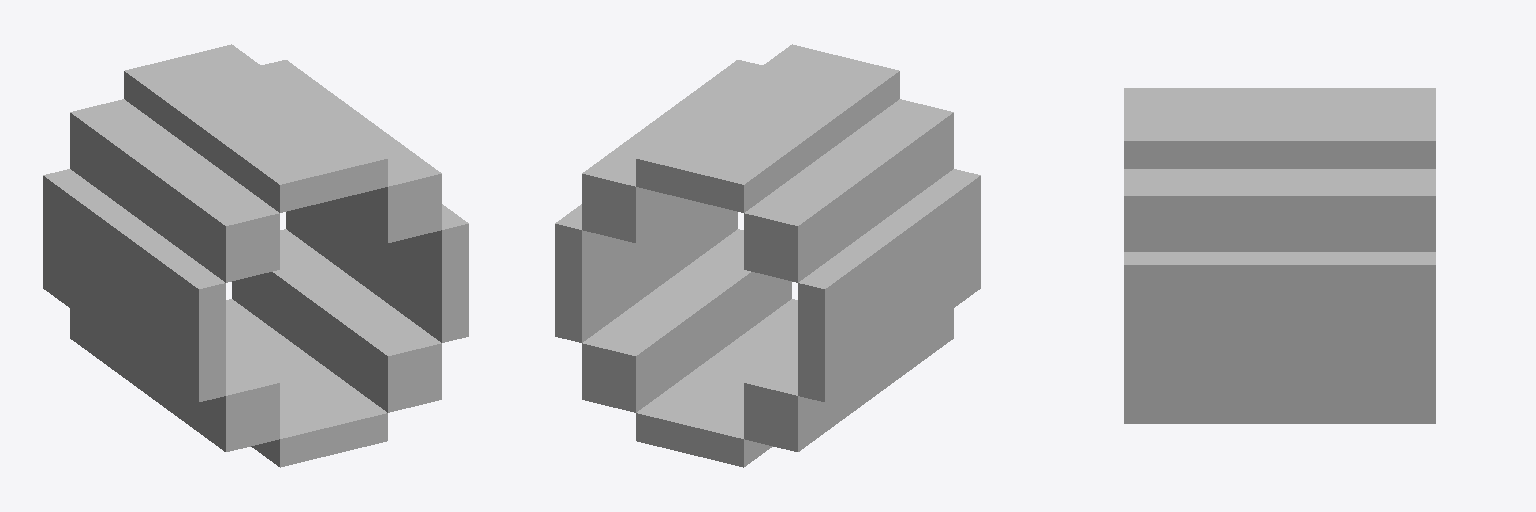
The model's file is Glass Tube.obj.
The picture shows the model from 3 angles: view 1: azimuth 30°, elevation 25°; view 2: azimuth 150°, elevation 25°; view 3: azimuth 270°, elevation 25°; orthographic projection.
Parts seen in each view (by area): view 1: object 1; view 2: object 1; view 3: object 1.
Boxes of the visible parts, x1=… form: object 1: x1=43, y1=44, x2=468, y2=467; object 1: x1=555, y1=44, x2=980, y2=467; object 1: x1=1124, y1=88, x2=1435, y2=423.
Size of the model in its own units: 1 by 1 by 1.